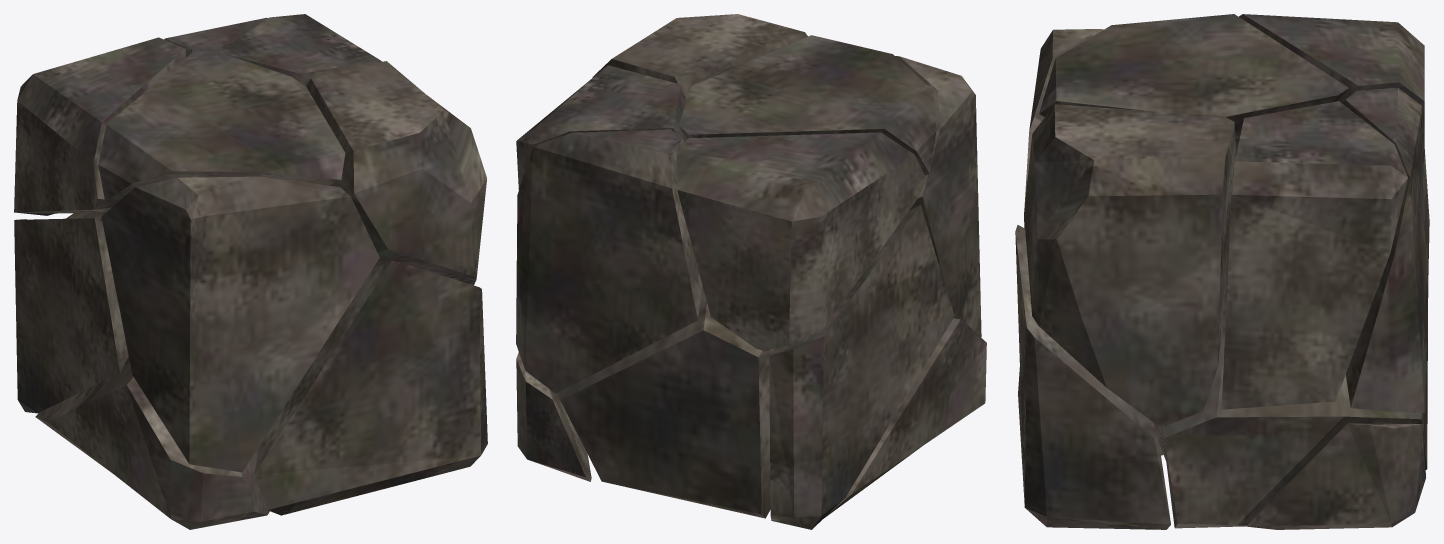
The model's file is crispyWall.gltf.
3 views of the same model, side by side, from view 1: azimuth 30°, elevation 25°; view 2: azimuth 150°, elevation 25°; view 3: azimuth 270°, elevation 25° (orthographic). The views are drawn at different scales.
Visible parts, largest first — view 1: Stone; view 2: Stone; view 3: Stone.
Part boxes in pixels (<box>): Stone: <box>14,14,487,529</box>; Stone: <box>516,14,986,529</box>; Stone: <box>1015,14,1429,529</box>.
Bounding box in the file's own units: 0.974 × 0.9648 × 0.9753.
1 material, 1 textured.
